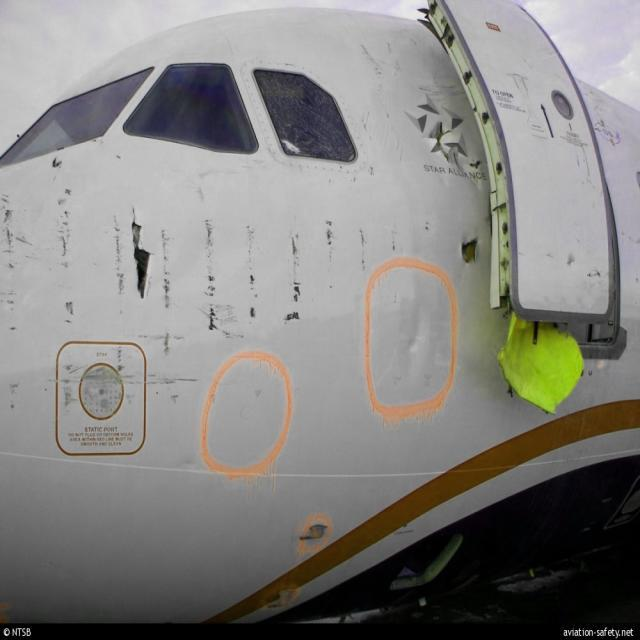crack: (122, 203, 159, 308)
dent: (393, 299, 441, 367)
